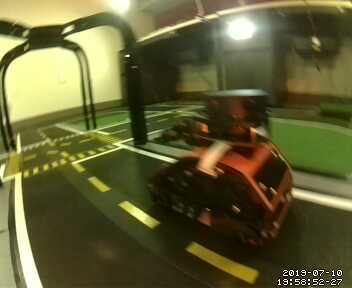pheeno: (146, 87, 295, 249)
